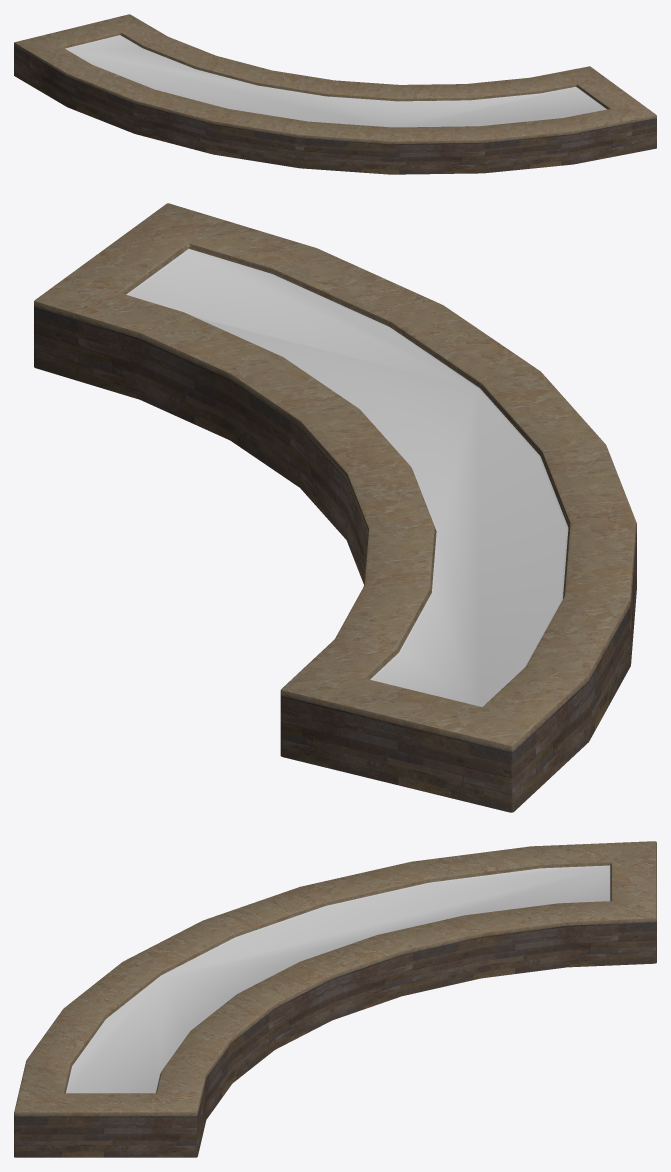
Rendered from garden_9.fbx.
The picture shows the model from 3 angles, top to bottom: view 1: azimuth 30°, elevation 25°; view 2: azimuth 150°, elevation 25°; view 3: azimuth 270°, elevation 25°; orthographic projection. The views are drawn at different scales.
Visible parts, largest first — view 1: Circle; view 2: Circle; view 3: Circle.
Boxes of the visible parts, left/top/right/bottom form: Circle: left=14, top=14, right=656, bottom=174; Circle: left=34, top=203, right=636, bottom=812; Circle: left=14, top=841, right=656, bottom=1157.
Size of the model in its own units: 700 by 55 by 700.
